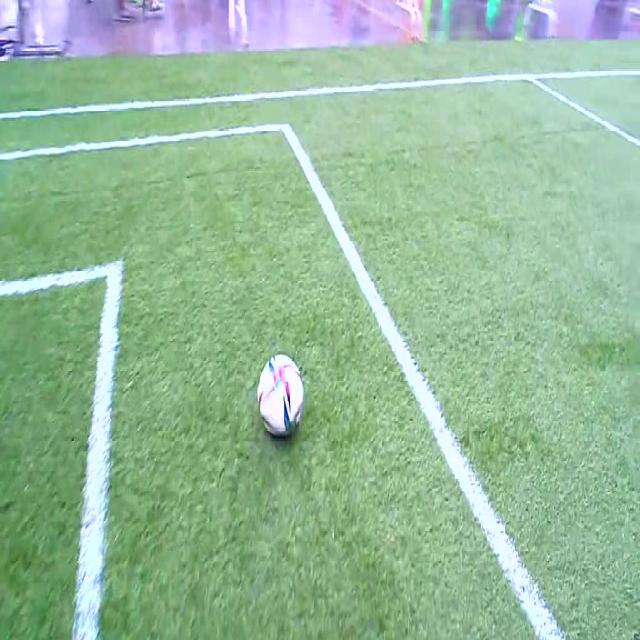ball: (258, 354, 303, 436)
